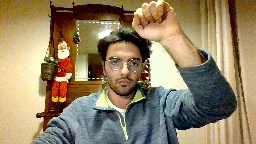Pugno: (130, 0, 185, 44)
